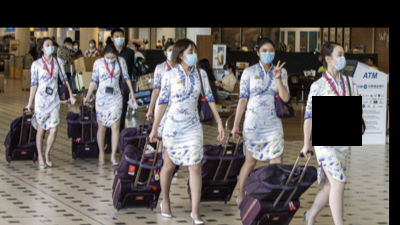with_mask: (183, 48, 199, 67), (333, 50, 347, 71), (260, 47, 276, 64), (44, 42, 55, 56), (114, 33, 124, 47), (104, 56, 117, 64), (167, 47, 174, 61), (89, 41, 95, 47), (224, 69, 230, 75), (74, 43, 79, 49), (67, 43, 71, 48)
